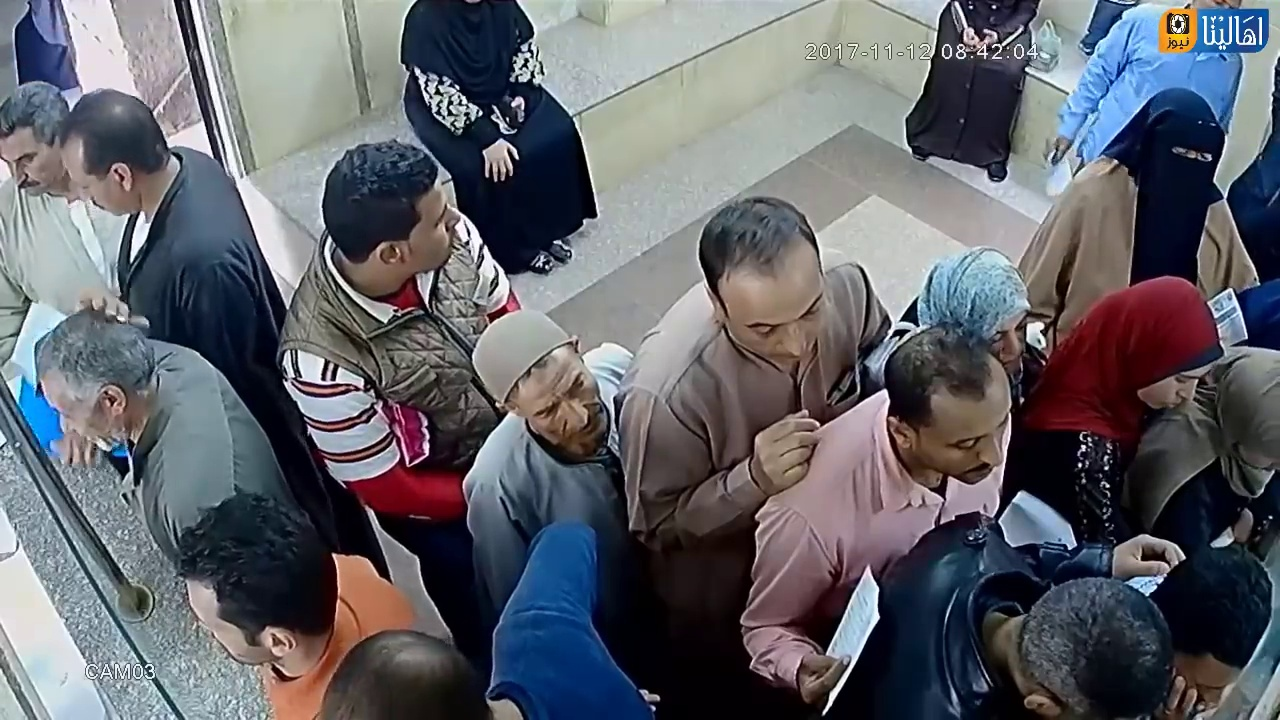face: (507, 358, 610, 448), (748, 289, 825, 377), (932, 387, 999, 482), (1142, 341, 1217, 423), (396, 192, 463, 278), (2, 123, 52, 201)
